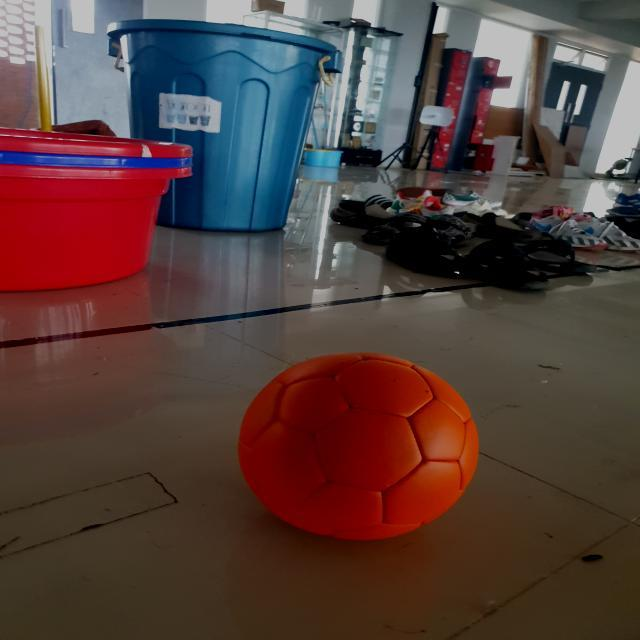bola: (226, 349, 486, 547)
